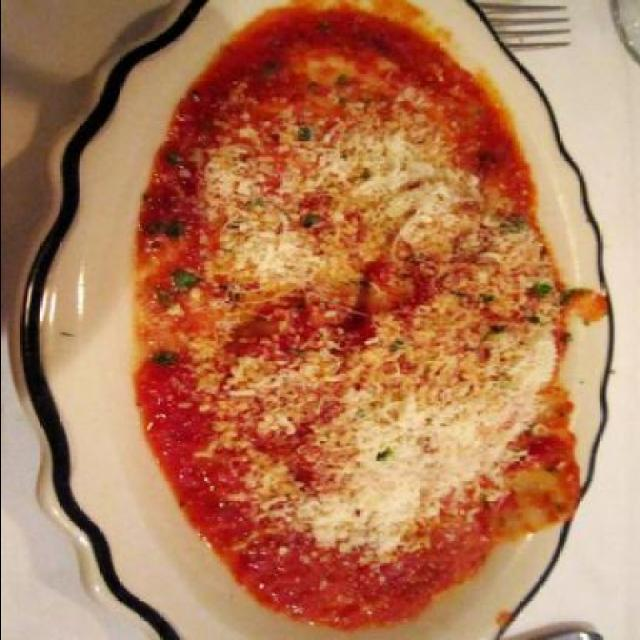Lasagna: (209, 132, 577, 532)
